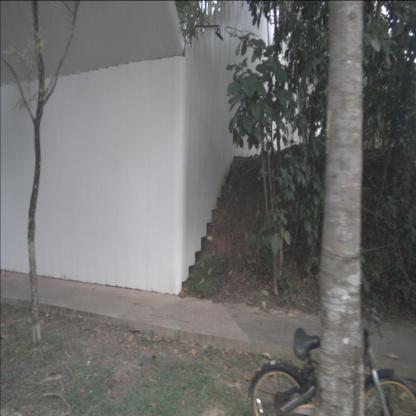vehicle-bicycle: (248, 262, 415, 415)
